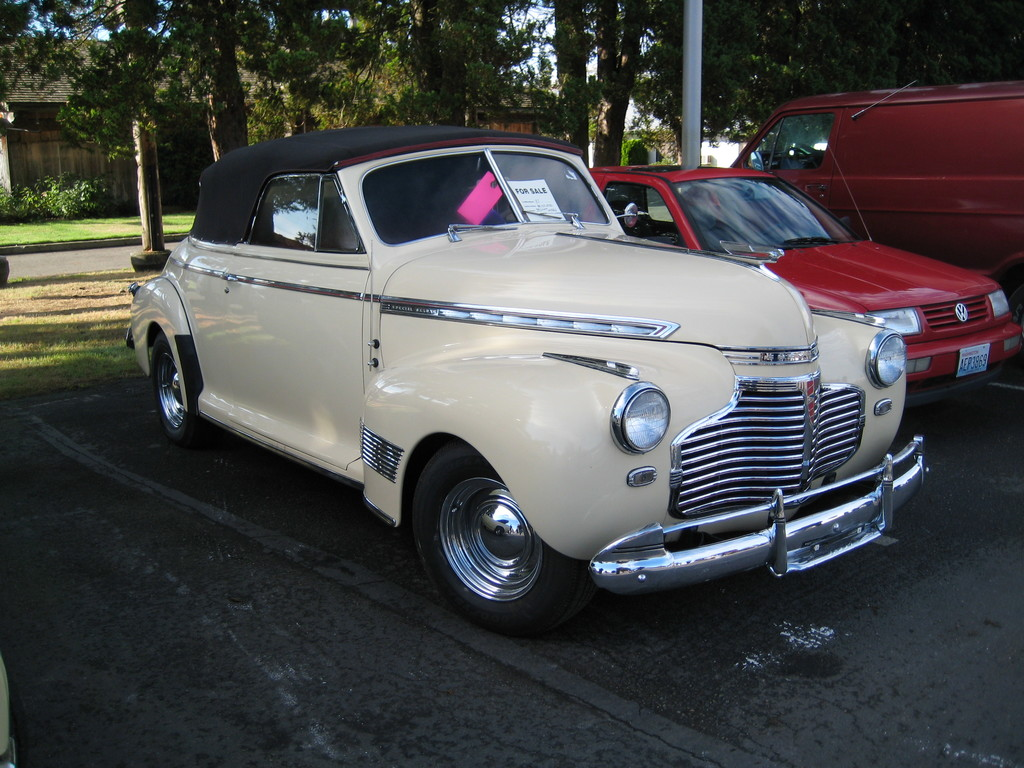mobil: (148, 111, 919, 598)
